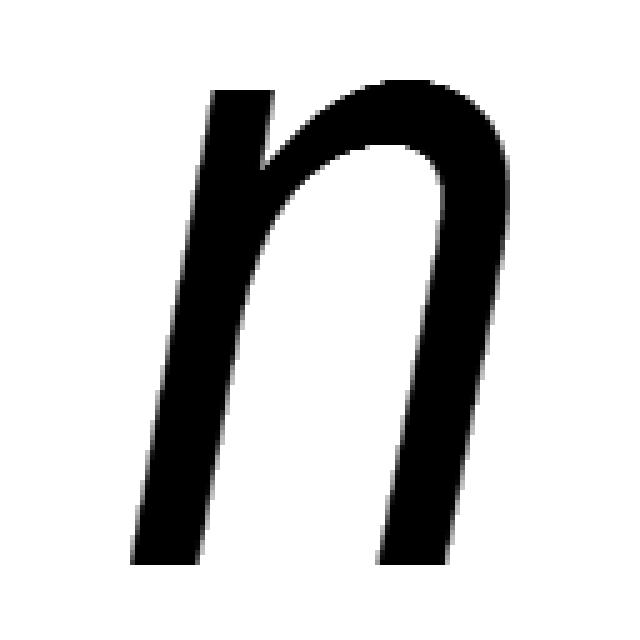N: (120, 70, 515, 570)
